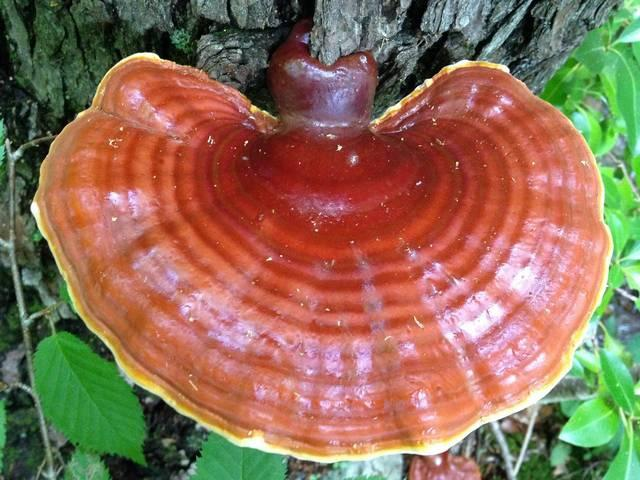poisonous_mushroom: (29, 19, 614, 465)
